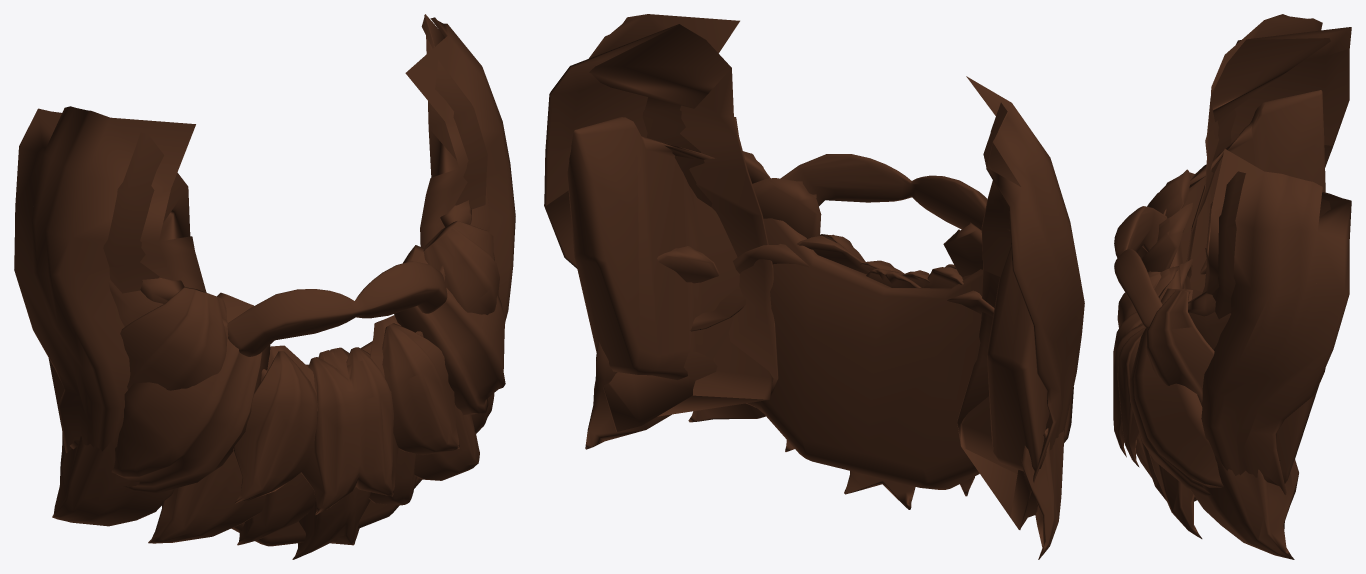
3 renders of one model, left to right at view 1: azimuth 30°, elevation 25°; view 2: azimuth 150°, elevation 25°; view 3: azimuth 270°, elevation 25°, orthographic. The views are drawn at different scales.
Visible parts, largest first — view 1: beardFullLongFluffy; view 2: beardFullLongFluffy; view 3: beardFullLongFluffy.
Boxes of the visible parts, x1,y1,x2,y2 form: beardFullLongFluffy: (14,14,515,559); beardFullLongFluffy: (544,14,1084,559); beardFullLongFluffy: (1113,14,1351,559).
Bounding box in the file's own units: 0.4623 × 0.427 × 0.2252.
1 material, 1 textured.
